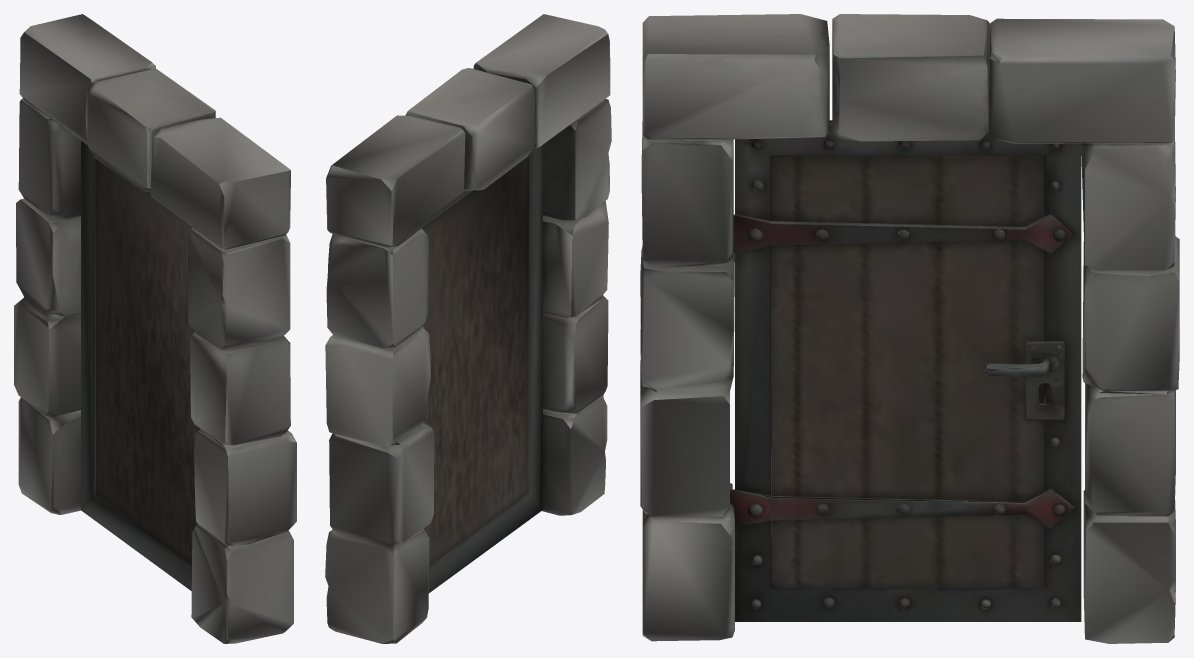
The model's file is archive_door.glb.
3 renders of one model, left to right at view 1: azimuth 30°, elevation 25°; view 2: azimuth 150°, elevation 25°; view 3: azimuth 270°, elevation 25°, orthographic. The views are drawn at different scales.
Visible parts, largest first — view 1: model; view 2: model; view 3: model.
Part boxes in pixels (x1,y1,x2,y2): model: [14, 14, 296, 643]; model: [325, 14, 611, 643]; model: [640, 14, 1179, 643].
Bounding box in the file's own units: 0.1703 × 1 × 0.8356.
1 material, 1 textured.
